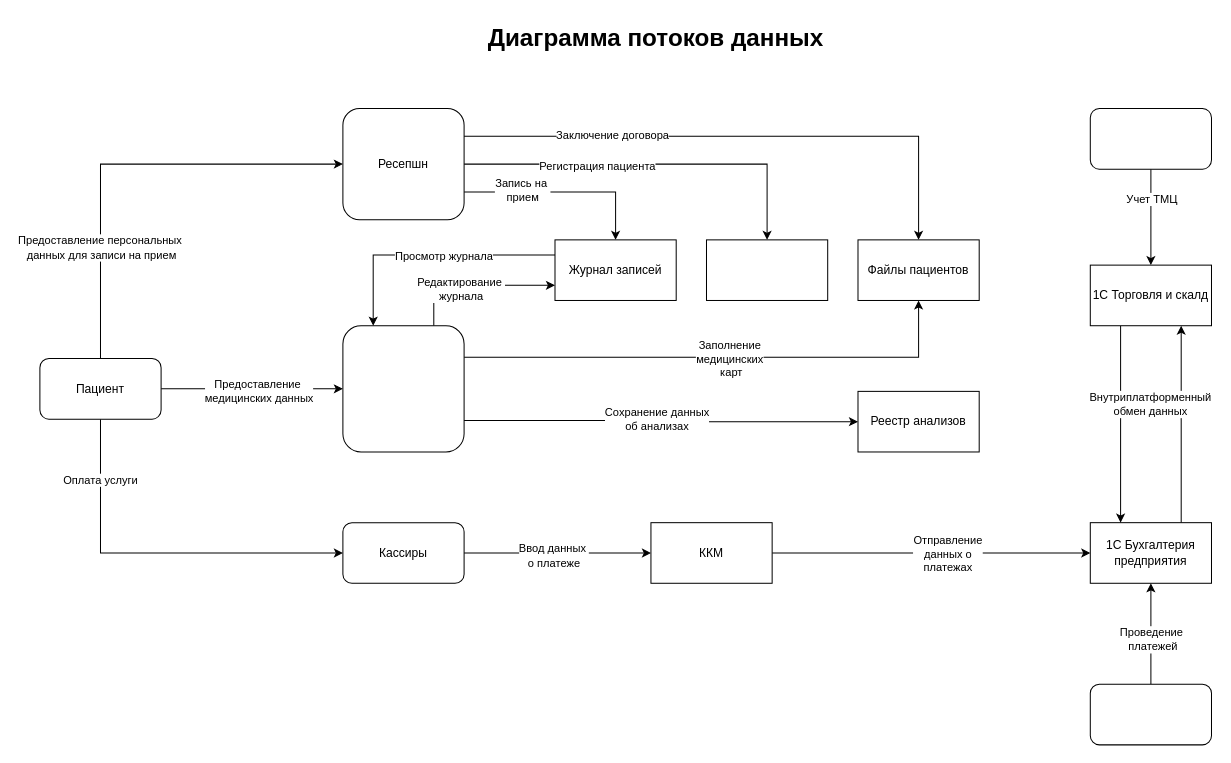
The diagram is 1231 pixels wide and 763 high, and some of its shapes have lost their labels. The shapes that lost their labels are listed below. From the top down, each one's centre as x and y in pixels, then its label:
the point at 1150,138: Сотрудник склада
the point at 766,269: Файл со списком пациентов
the point at 403,388: Медицинский специалист
the point at 1150,714: Бухгалтеры
